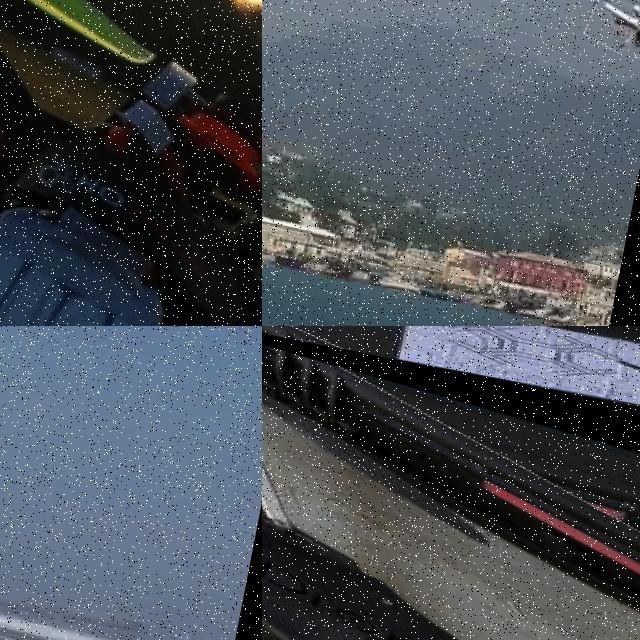0: (584, 0, 640, 62)
drone: (262, 326, 640, 640), (0, 0, 262, 326)
